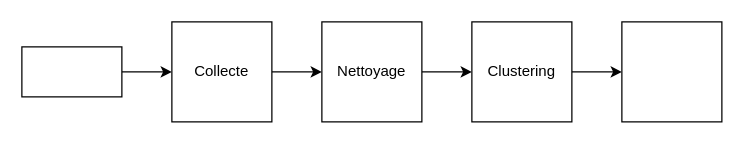
Some shapes in this 744 by 144 pixel diagram are drawn without their labels. Here are the shapes that lost their labels. From the top down, the centre of each, then its label:
At (x=71, y=71): "Flux RSS".
At (x=671, y=71): "Livraison".
